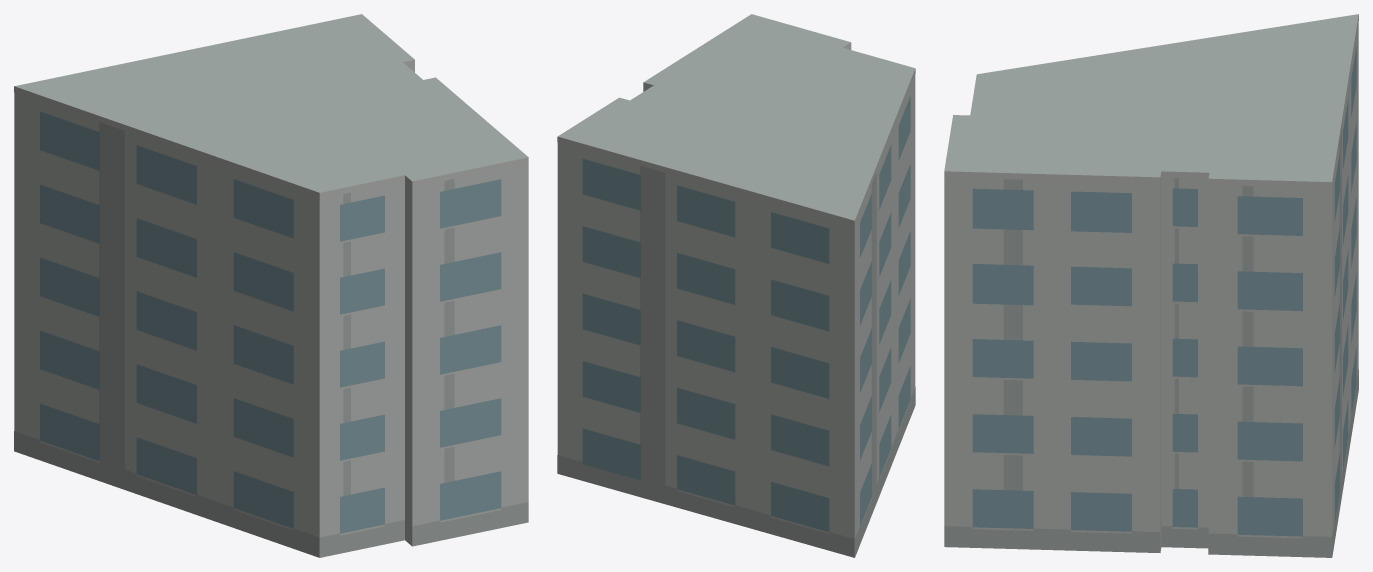
File: survey-upis-32874226.glb
The picture shows the model from 3 angles, left to right: view 1: azimuth 30°, elevation 25°; view 2: azimuth 150°, elevation 25°; view 3: azimuth 270°, elevation 25°; orthographic projection. The views are drawn at different scales.
Visible parts, largest first — view 1: survey-upis-32874226.tmp; view 2: survey-upis-32874226.tmp; view 3: survey-upis-32874226.tmp.
Boxes of the visible parts, bbox=[...] form: survey-upis-32874226.tmp: bbox=[14, 14, 528, 557]; survey-upis-32874226.tmp: bbox=[557, 14, 915, 557]; survey-upis-32874226.tmp: bbox=[944, 14, 1358, 557].
Bounding box in the file's own units: 14.02 × 14.6 × 14.61.
